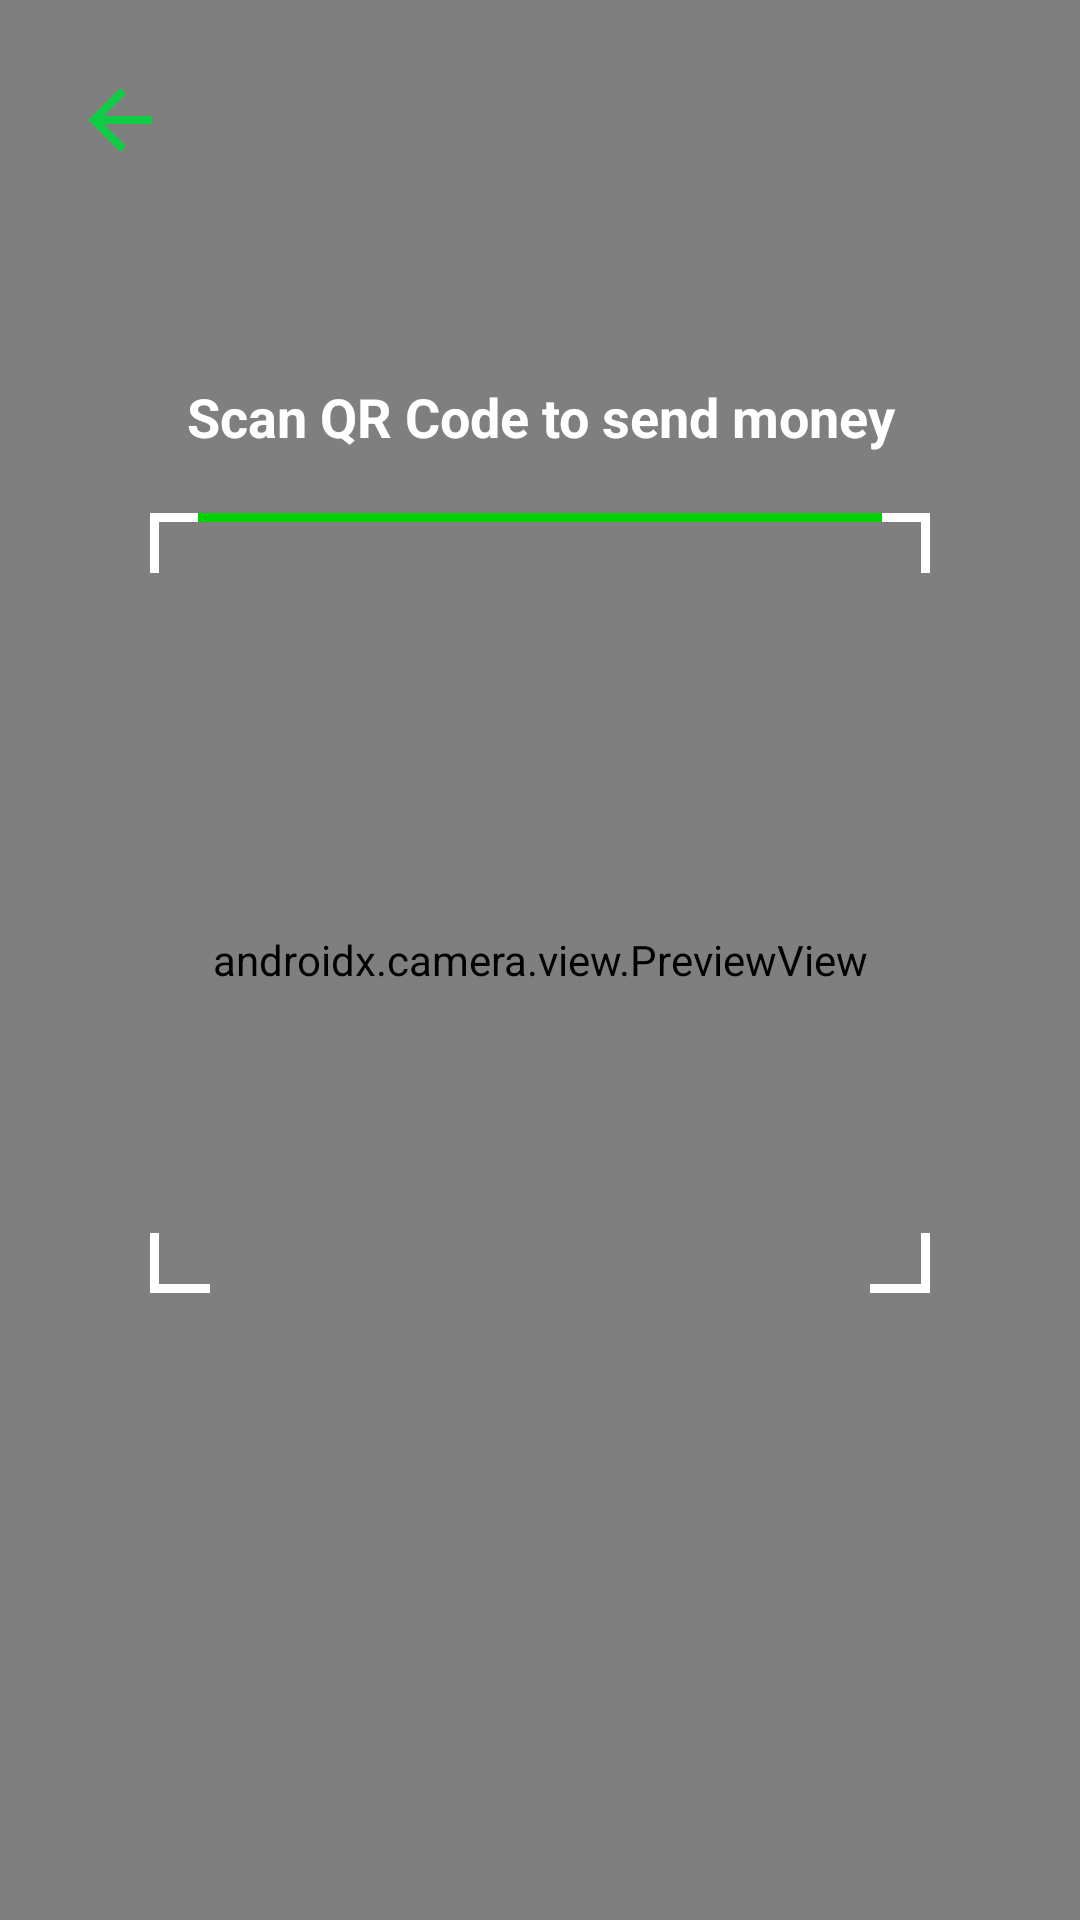

Screen size 1080x1920. Icon name, then its box in pixels as bbox=(x1, y1, x2, y2):
arrow back: bbox=(88, 88, 152, 152)
